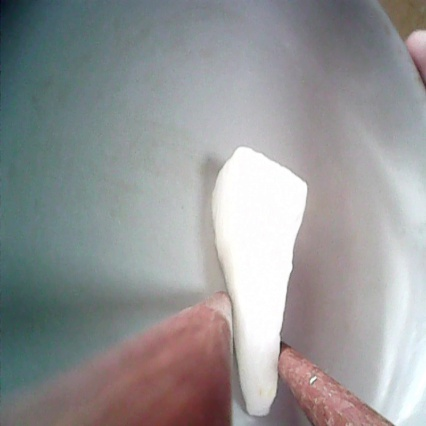white_chinese-yam: (210, 145, 308, 416)
